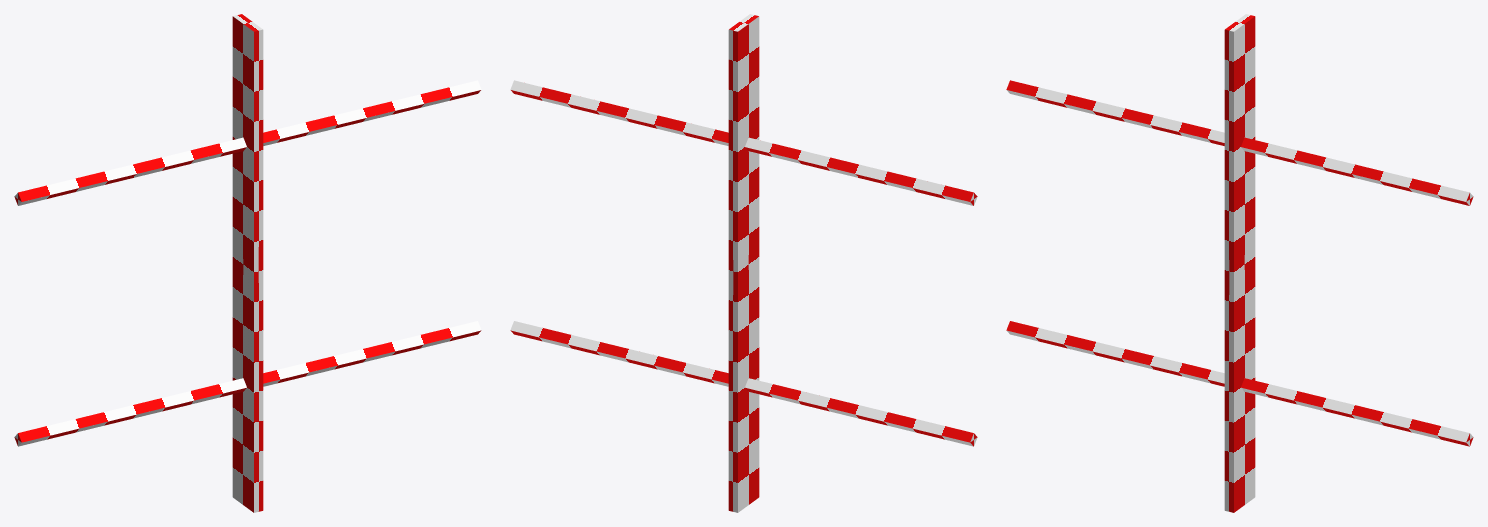
Rendered from fence2.dae.
3 renders of one model, left to right at view 1: azimuth 30°, elevation 25°; view 2: azimuth 150°, elevation 25°; view 3: azimuth 330°, elevation 25°, orthographic.
Visible parts, largest first — view 1: Plane; view 2: Plane; view 3: Plane.
Boxes of the visible parts, x1=… form: Plane: x1=14, y1=14, x2=481, y2=512; Plane: x1=510, y1=14, x2=977, y2=512; Plane: x1=1006, y1=14, x2=1473, y2=512.
Size of the model in its own units: 1 by 0.08 by 1.
Materials: 1 (1 with a texture image).
